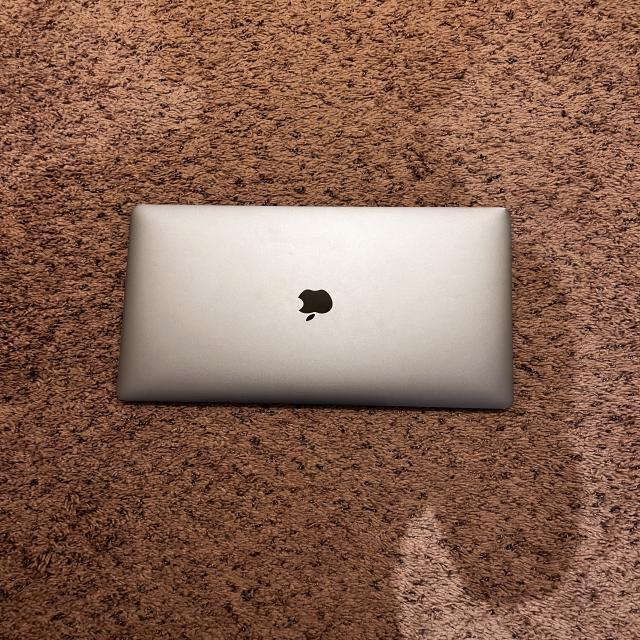laptop: (116, 202, 513, 409)
